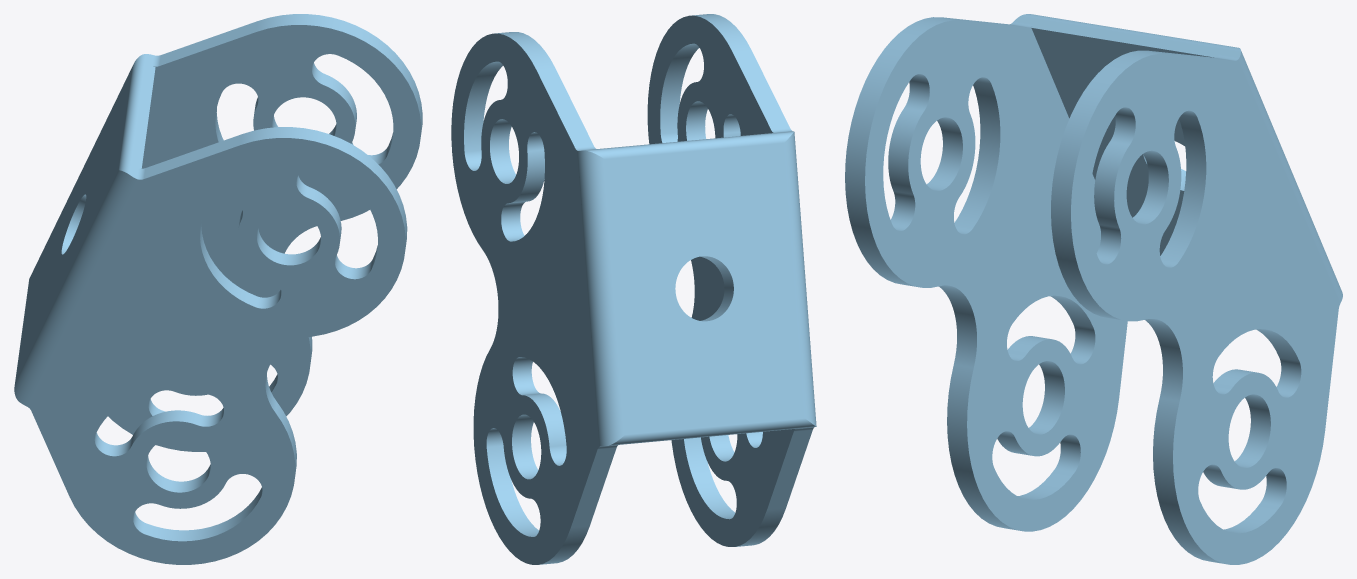
3 views of the same model, side by side, from view 1: azimuth 30°, elevation 25°; view 2: azimuth 150°, elevation 25°; view 3: azimuth 270°, elevation 25° (orthographic). The views are drawn at different scales.
Parts seen in each view (by area): view 1: mesh3926, mesh3968, mesh3955, mesh3954, mesh3928, mesh3966, mesh3956, mesh3958, mesh3932, mesh3947, mesh3967, mesh3940 (+3 smaller); view 2: mesh3955, mesh3969, mesh3951, mesh3960, mesh3954, mesh3956, mesh3957, mesh3972, mesh3934, mesh3974, mesh3947, mesh3967 (+16 smaller); view 3: mesh3969, mesh3951, mesh3952, mesh3928, mesh3966, mesh3927, mesh3964, mesh3940, mesh3980, mesh3958, mesh3960, mesh3976 (+18 smaller).
Part boxes in pixels (<box>): mesh3926: <box>28,138,405,564</box>; mesh3968: <box>108,25,420,451</box>; mesh3955: <box>15,68,132,380</box>; mesh3954: <box>14,170,138,407</box>; mesh3928: <box>240,127,407,246</box>; mesh3966: <box>256,14,422,134</box>; mesh3956: <box>118,54,146,174</box>; mesh3958: <box>130,54,155,178</box>; mesh3932: <box>145,487,262,541</box>; mesh3947: <box>144,134,241,178</box>; mesh3967: <box>159,21,257,65</box>; mesh3940: <box>200,220,256,306</box>; mesh3955: <box>604,143,804,434</box>; mesh3969: <box>451,33,599,564</box>; mesh3951: <box>647,15,794,546</box>; mesh3960: <box>577,150,625,446</box>; mesh3954: <box>784,132,816,426</box>; mesh3956: <box>586,131,793,158</box>; mesh3957: <box>608,418,815,445</box>; mesh3972: <box>486,446,538,536</box>; mesh3934: <box>660,43,699,133</box>; mesh3974: <box>464,61,502,151</box>; mesh3947: <box>733,50,789,129</box>; mesh3967: <box>536,68,593,147</box>; mesh3969: <box>1071,53,1339,564</box>; mesh3951: <box>865,20,1127,531</box>; mesh3952: <box>1031,28,1213,255</box>; mesh3928: <box>845,17,958,287</box>; mesh3966: <box>1051,50,1166,320</box>; mesh3927: <box>947,364,1022,531</box>; mesh3964: <box>1153,398,1226,564</box>; mesh3940: <box>954,81,1000,228</box>; mesh3980: <box>1160,115,1206,261</box>; mesh3958: <box>1014,16,1240,57</box>; mesh3960: <box>1238,51,1342,303</box>; mesh3976: <box>1094,141,1129,227</box>.
Size of the model in its own units: 0.0754 by 0.0902 by 0.0737.
